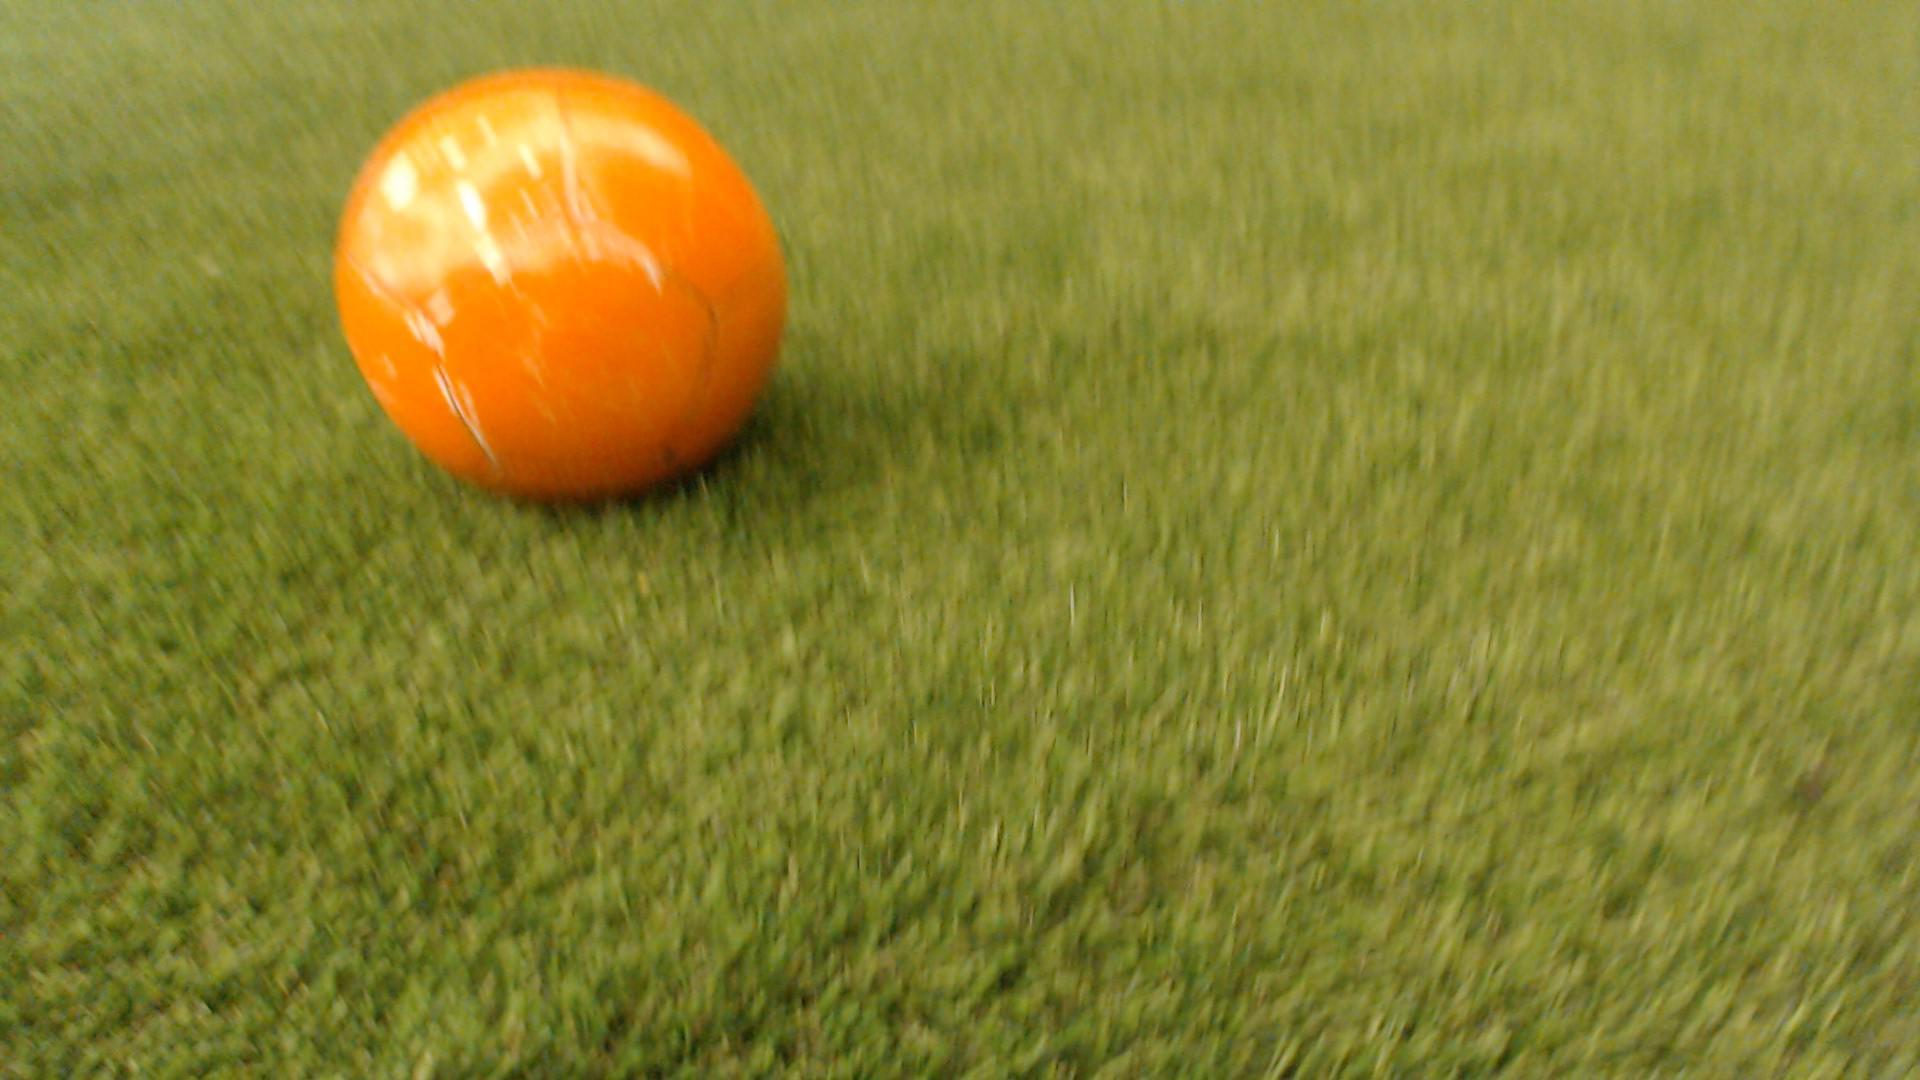bola: (314, 49, 836, 522)
